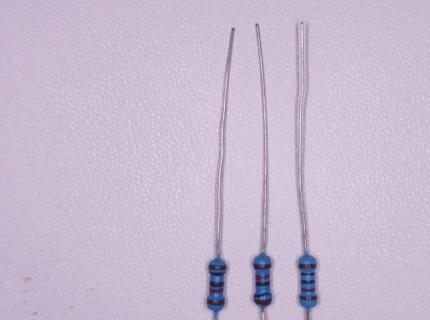Black band: (253, 292, 272, 297), (256, 281, 270, 286), (210, 281, 224, 286), (300, 272, 315, 276), (210, 272, 225, 276), (301, 280, 315, 284)
Brown band: (298, 263, 317, 269), (252, 264, 271, 270), (208, 264, 227, 270), (207, 299, 225, 305), (254, 299, 272, 305), (300, 295, 317, 301)
Red band: (209, 288, 223, 293), (301, 287, 315, 292), (256, 274, 269, 279)
